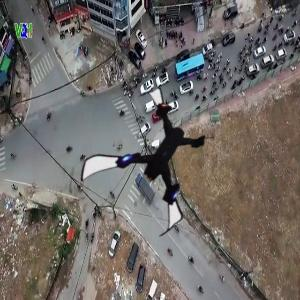drone: (94, 104, 221, 231)
